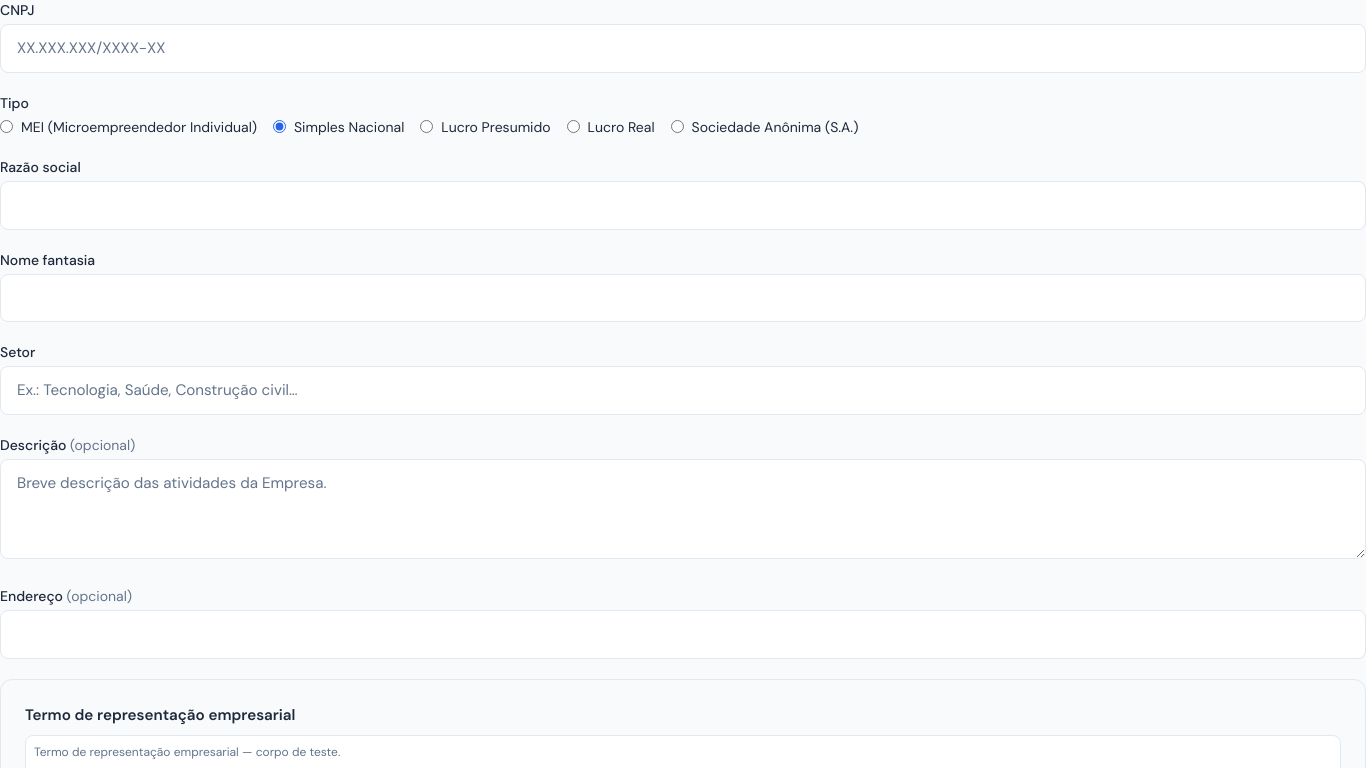
Test: CreateCompanyForm (USP-012, restyle Fase 2) › exibe a mensagem de erro do servidor (ex.: CONFLICT)
In the field labelled "CNPJ": (683, 48) x1=0 y1=24 x2=1365 y2=73, type "11222333000181"
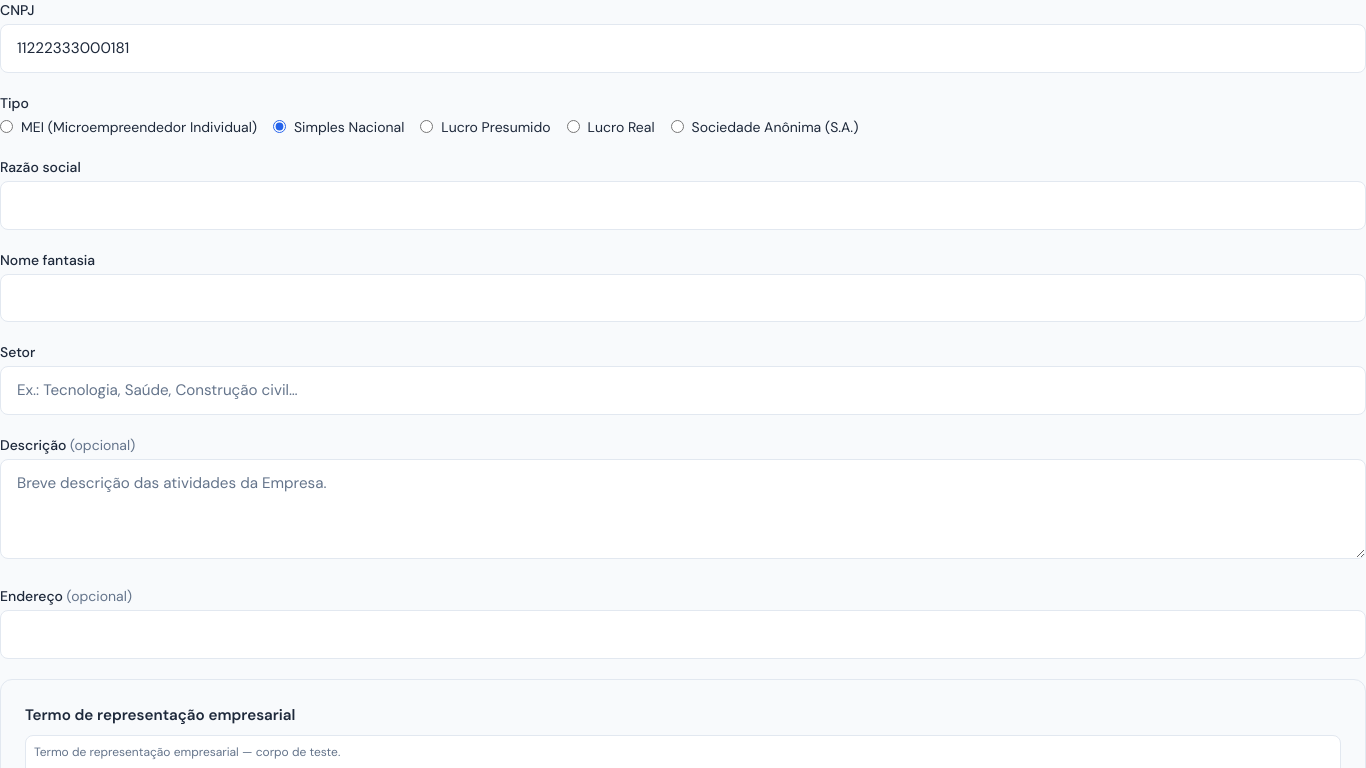
In the field labelled "Razão social": (683, 205) x1=0 y1=181 x2=1365 y2=230, type "Padaria Aurora Alimentos Ltda"
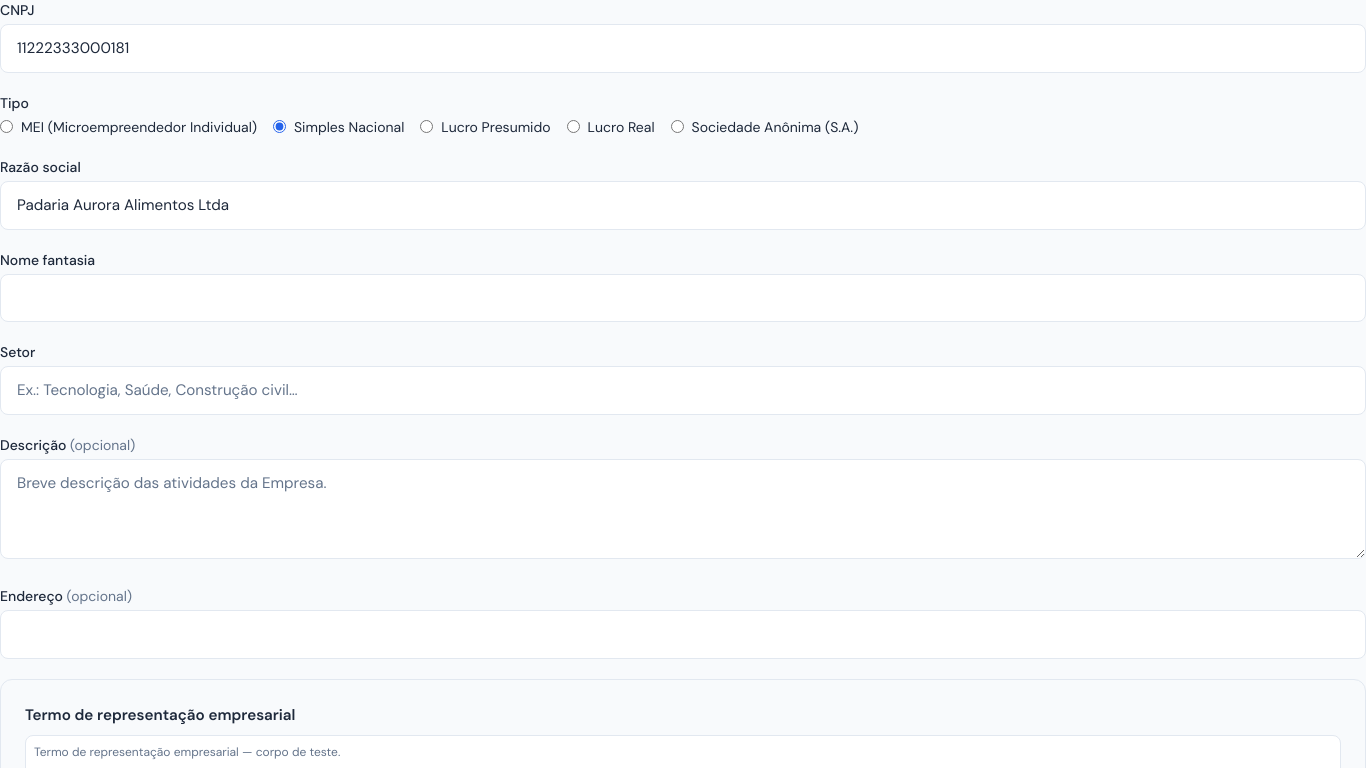
In the field labelled "Nome fantasia": (683, 298) x1=0 y1=274 x2=1365 y2=322, type "Padaria Aurora"
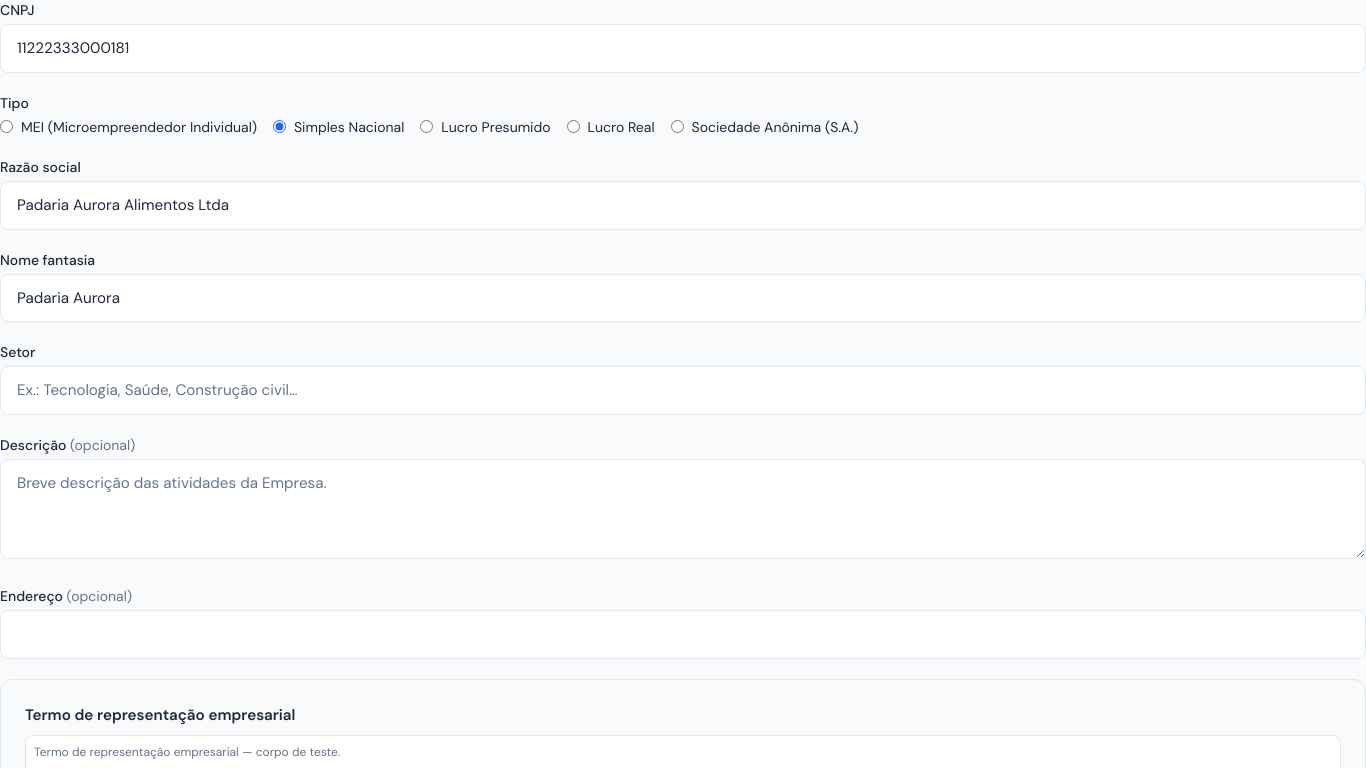
In the field labelled "Setor": (683, 391) x1=0 y1=366 x2=1365 y2=415, type "Alimentação"
(page scrolled)
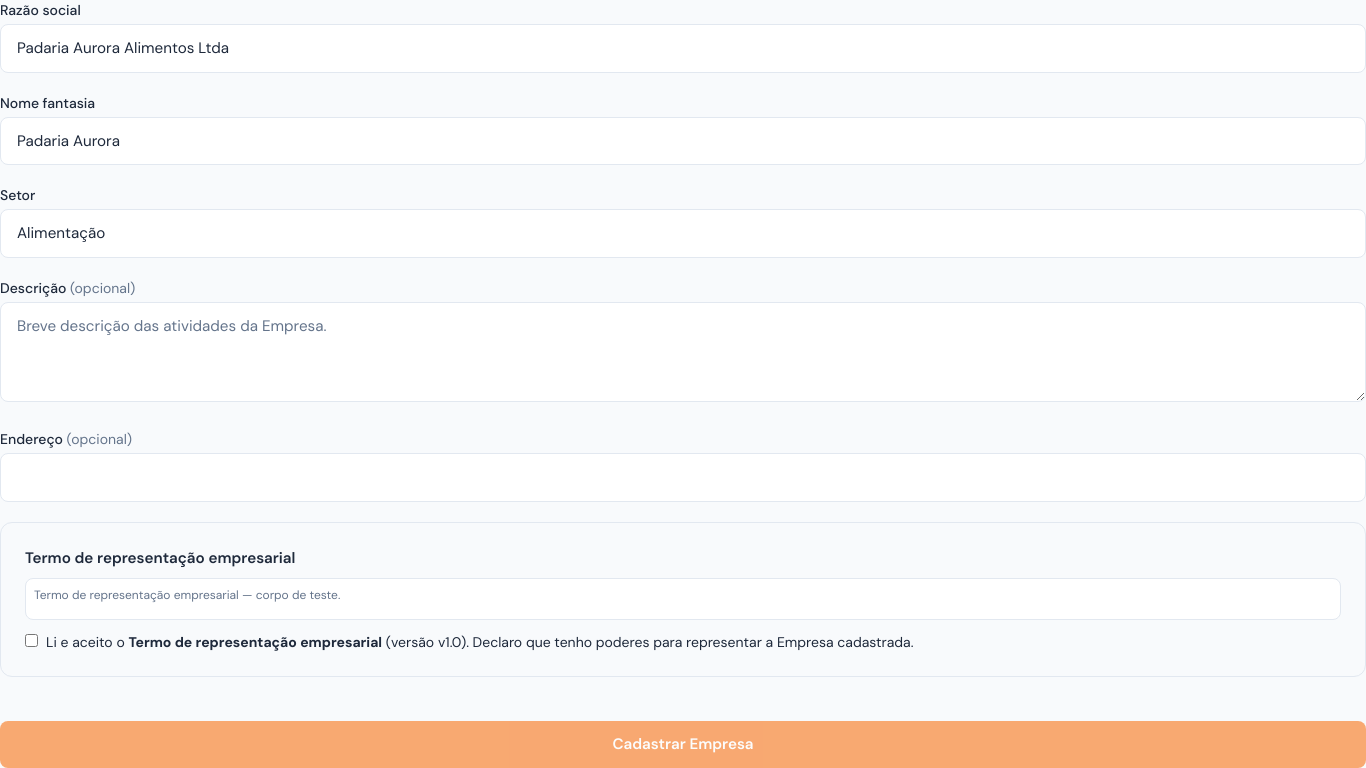
Click the checkbox: (32, 640) x1=25 y1=634 x2=38 y2=647
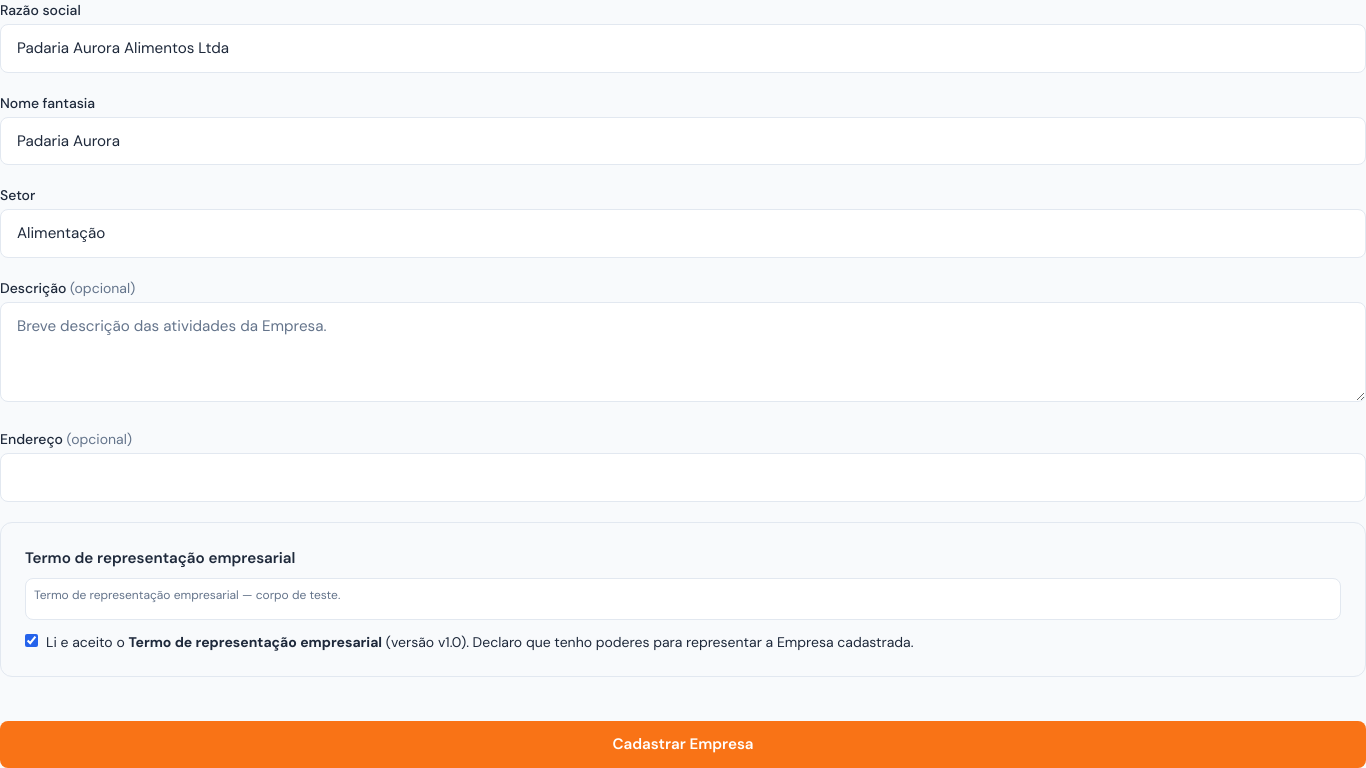
Click the button "Cadastrar Empresa": (683, 744) x1=0 y1=721 x2=1365 y2=767
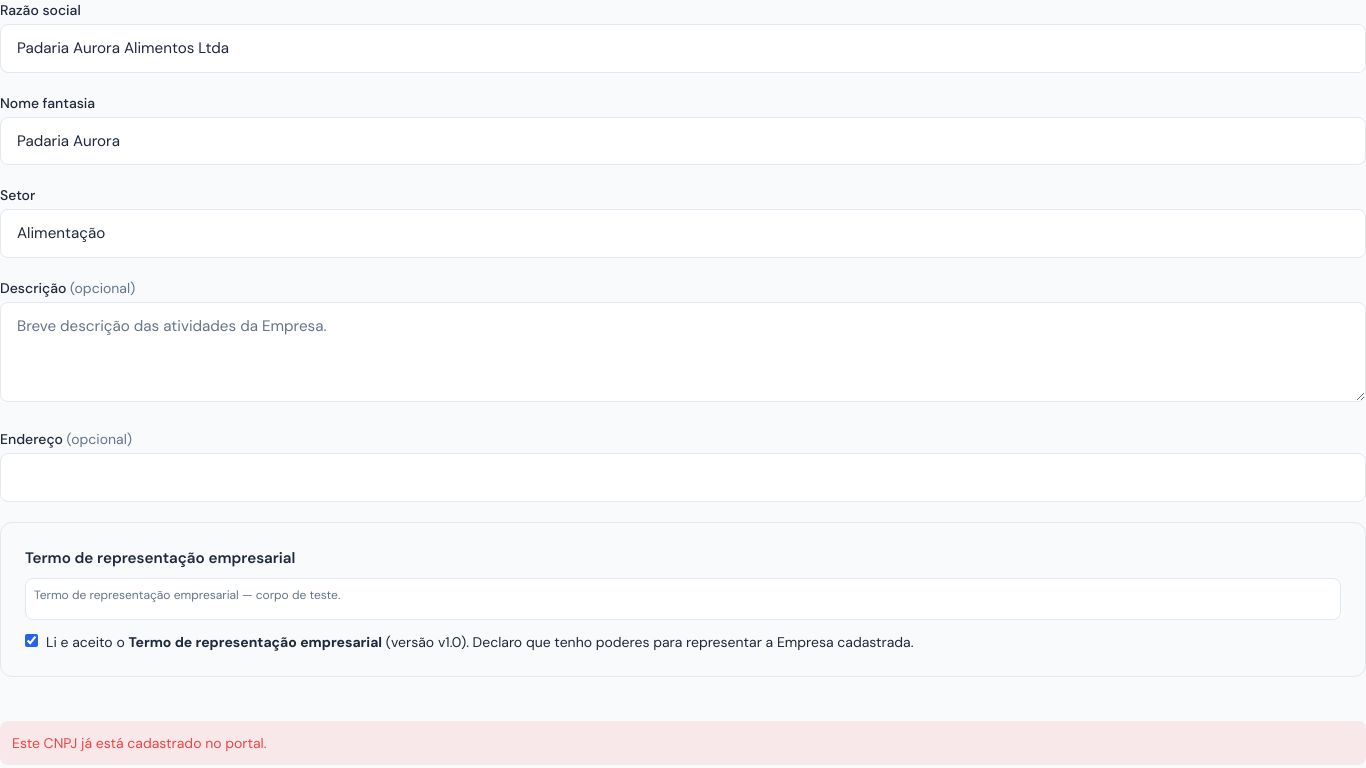
Expected: the text "Este CNPJ já está cadastrado no portal." is shown, x1=0 y1=721 x2=1365 y2=765
